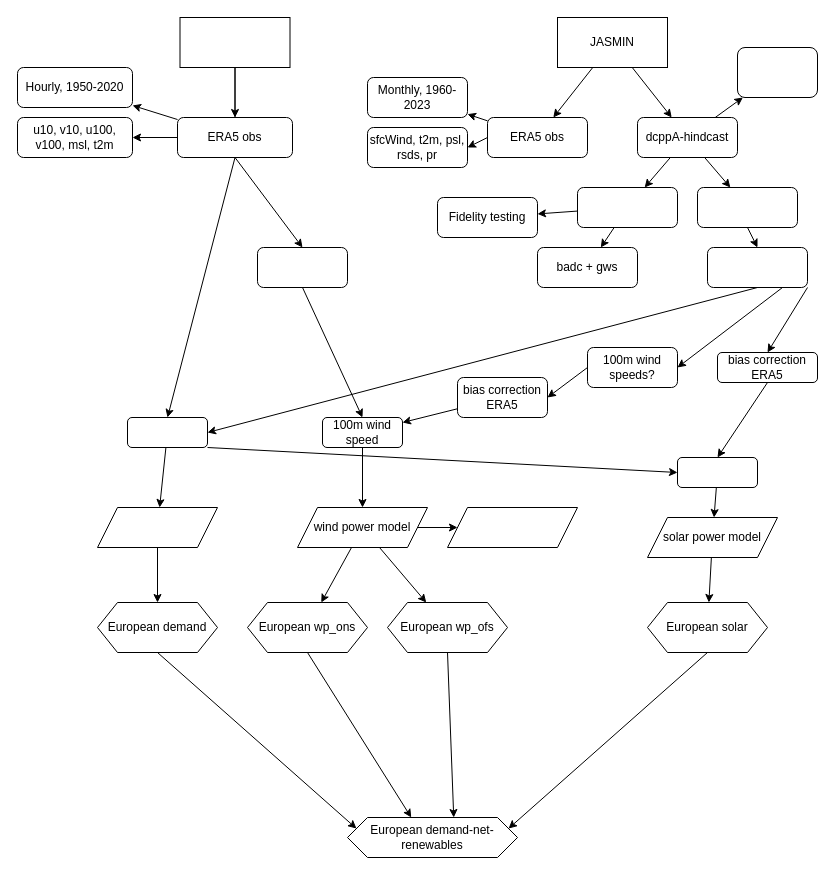
This 835x875 diagram has some shape labels left out. Each missing label, with the centre of its shape:
2025/2030 distr.?: (512,527)
badc: (757,267)
bias correction GWA: (302,267)
Daily: (747,207)
demand model: (157,527)
Monthly: (627,207)
multi-model: (777,72)
RACC: (234,42)
solar irrad., t2m: (717,472)
t2m: (167,432)
